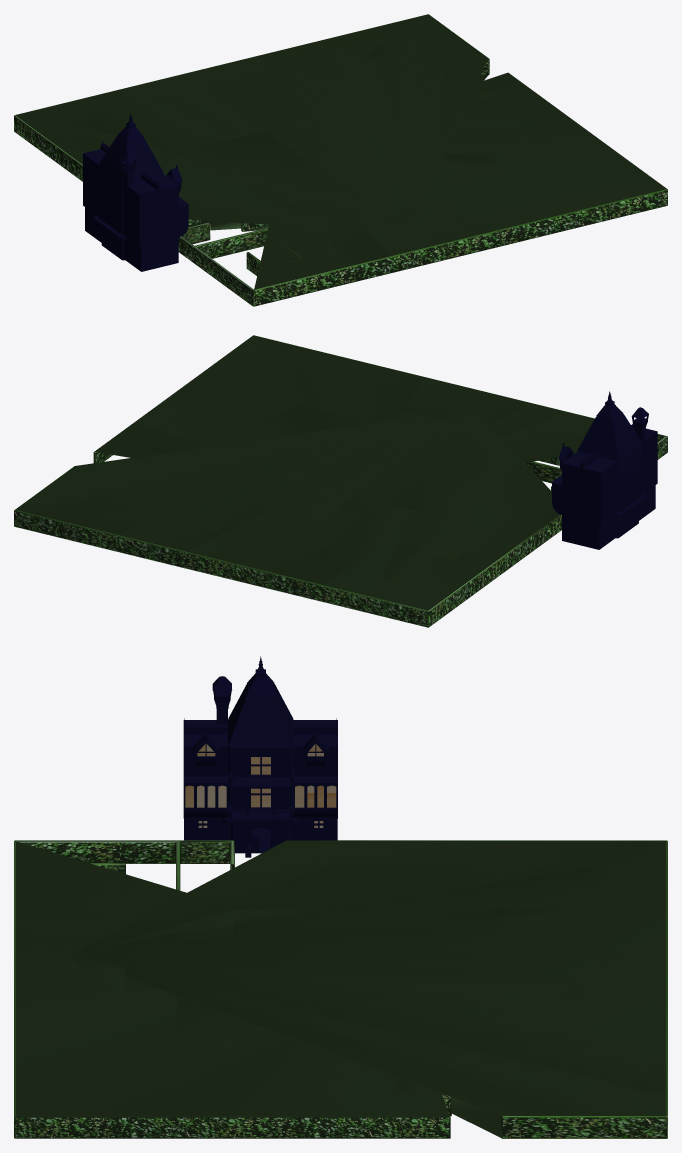
The model's file is First Puzzle.fbx.
The picture shows the model from 3 angles, top to bottom: view 1: azimuth 30°, elevation 25°; view 2: azimuth 150°, elevation 25°; view 3: azimuth 270°, elevation 25°; orthographic projection. The views are drawn at different scales.
Parts seen in each view (by area): view 1: Cube, Cone.002; view 2: Cube, Cone.002; view 3: Cube, Cone.002.
Boxes of the visible parts, left/top/right/bottom form: Cube: left=14, top=14, right=667, bottom=306; Cone.002: left=83, top=113, right=189, bottom=271; Cube: left=14, top=335, right=667, bottom=627; Cone.002: left=551, top=391, right=657, bottom=549; Cube: left=14, top=840, right=667, bottom=1138; Cone.002: left=183, top=656, right=337, bottom=857.
Size of the model in its own units: 1539 by 424 by 1354.
